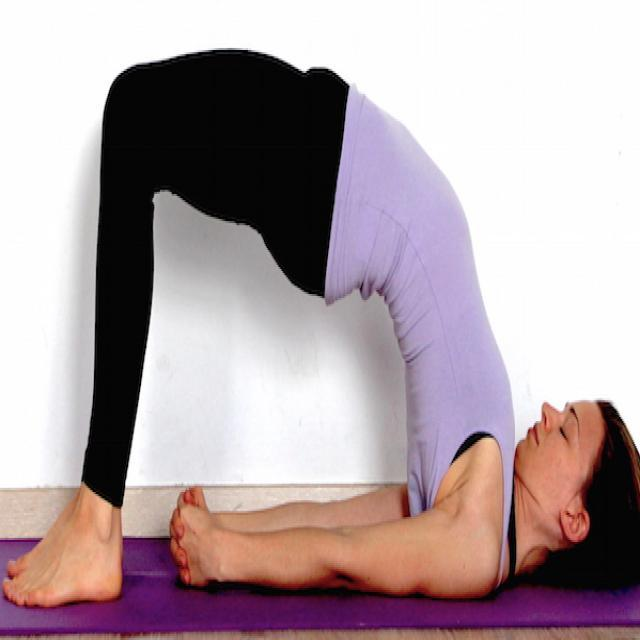yoga-pose bridge: (8, 34, 628, 602)
